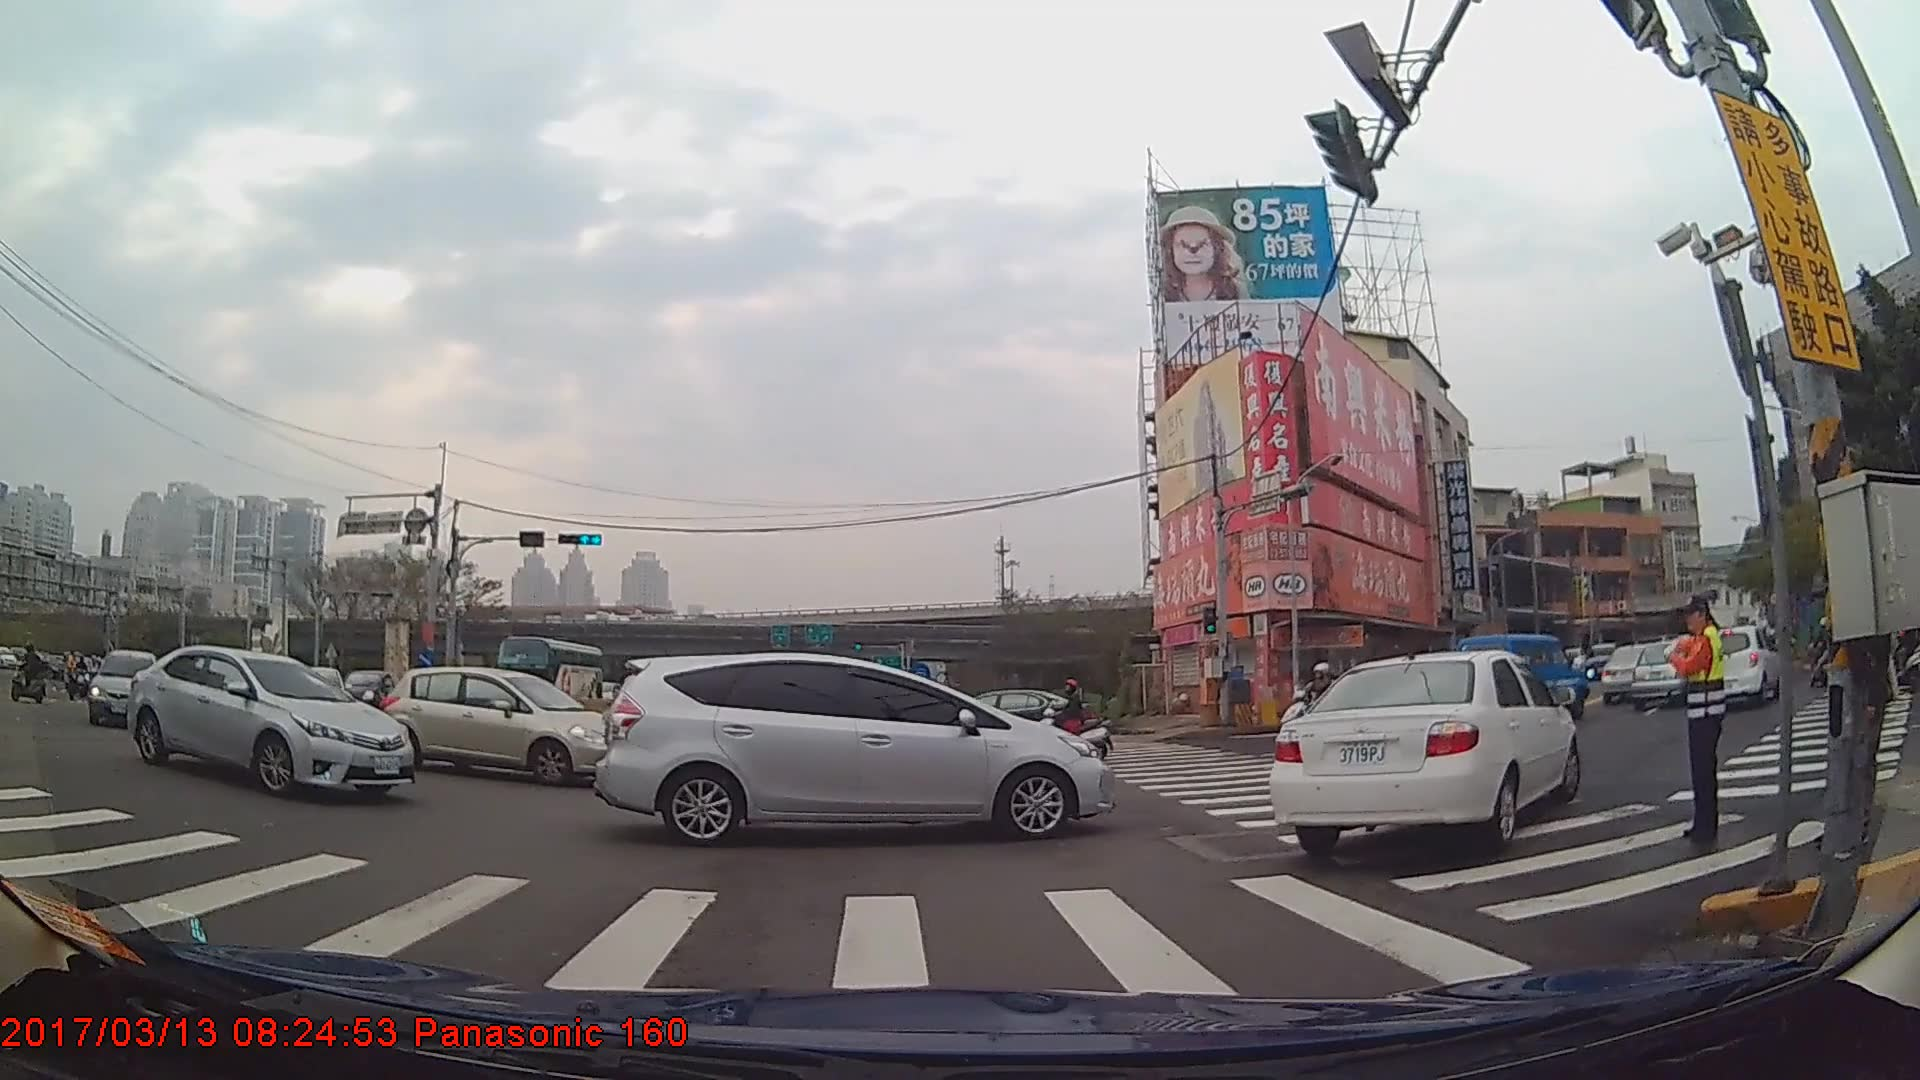pedestrian: (1815, 533, 1901, 851), (1663, 594, 1727, 854)
rider: (1026, 681, 1113, 762), (1277, 660, 1348, 743), (1810, 614, 1834, 690)
vehicle: (587, 647, 1113, 844), (1260, 644, 1584, 862), (120, 644, 414, 801), (372, 664, 618, 787), (1455, 633, 1588, 720), (488, 632, 598, 714), (1693, 622, 1783, 709), (85, 650, 162, 723), (1625, 638, 1695, 713), (1597, 644, 1669, 705)
